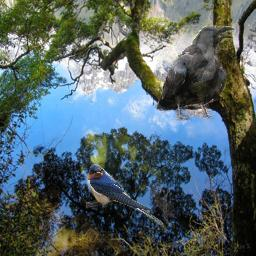Crow: (155, 25, 235, 121)
Swallow: (86, 164, 163, 225)
